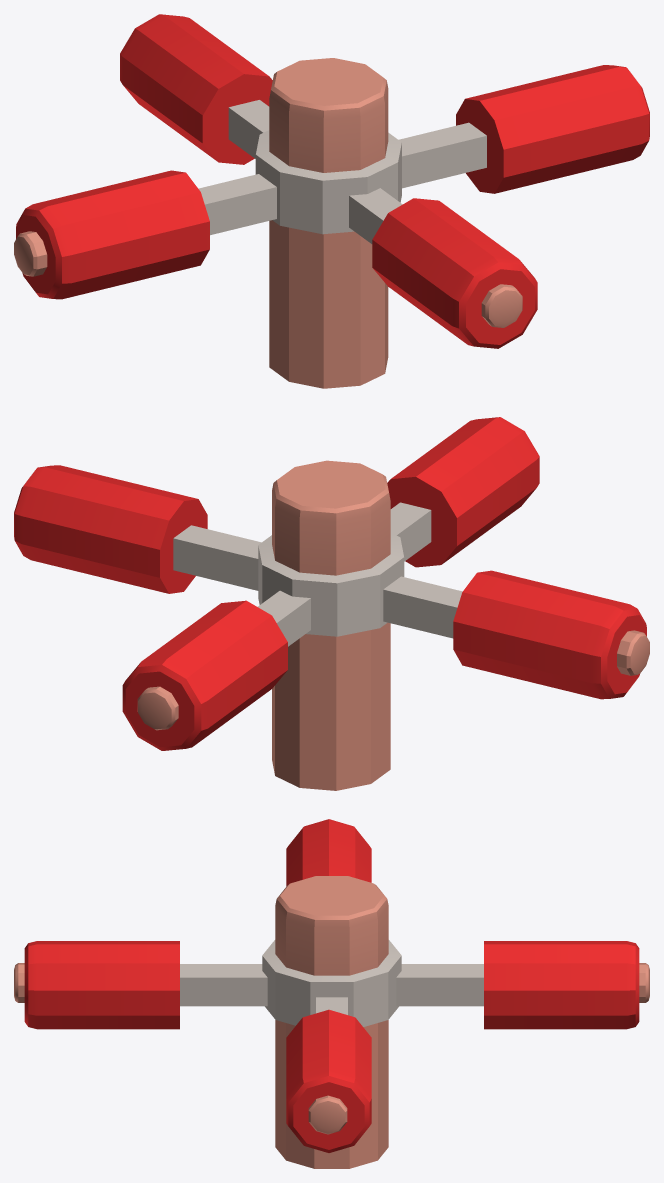
The model's file is CharacterShortcutRun_MiddleRedObject.fbx.
3 views of the same model, one above another, from view 1: azimuth 30°, elevation 25°; view 2: azimuth 150°, elevation 25°; view 3: azimuth 270°, elevation 25° (orthographic). The views are drawn at different scales.
Visible parts, largest first — view 1: RedMiddleObject; view 2: RedMiddleObject; view 3: RedMiddleObject.
Boxes of the visible parts, x1=… form: RedMiddleObject: x1=14, y1=14, x2=649, y2=388; RedMiddleObject: x1=14, y1=417, x2=649, y2=790; RedMiddleObject: x1=14, y1=819, x2=649, y2=1168.
Size of the model in its own units: 1160 by 504 by 1156.
